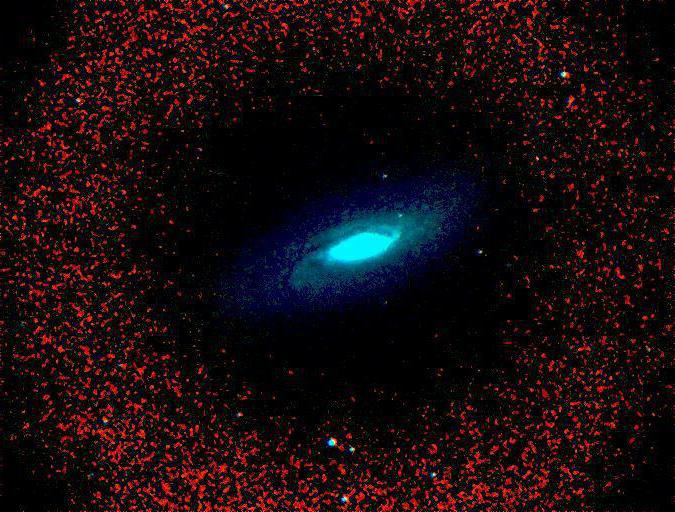star: (426, 214, 456, 244)
